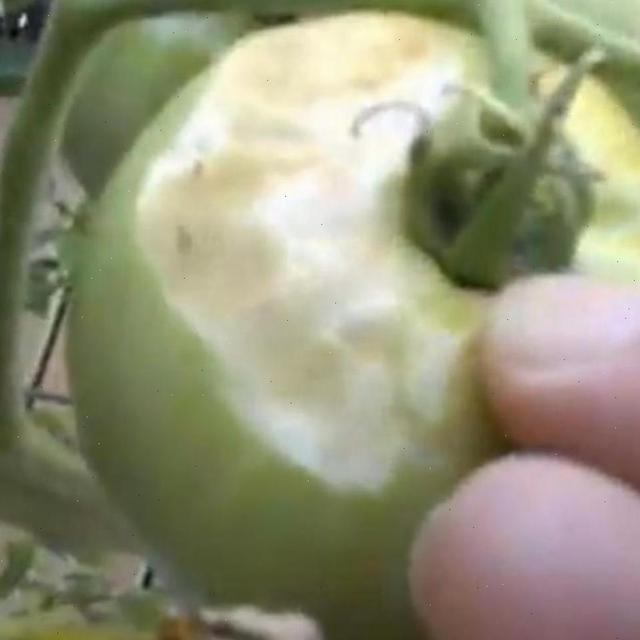Sunscald Fruit: (86, 8, 312, 342)
